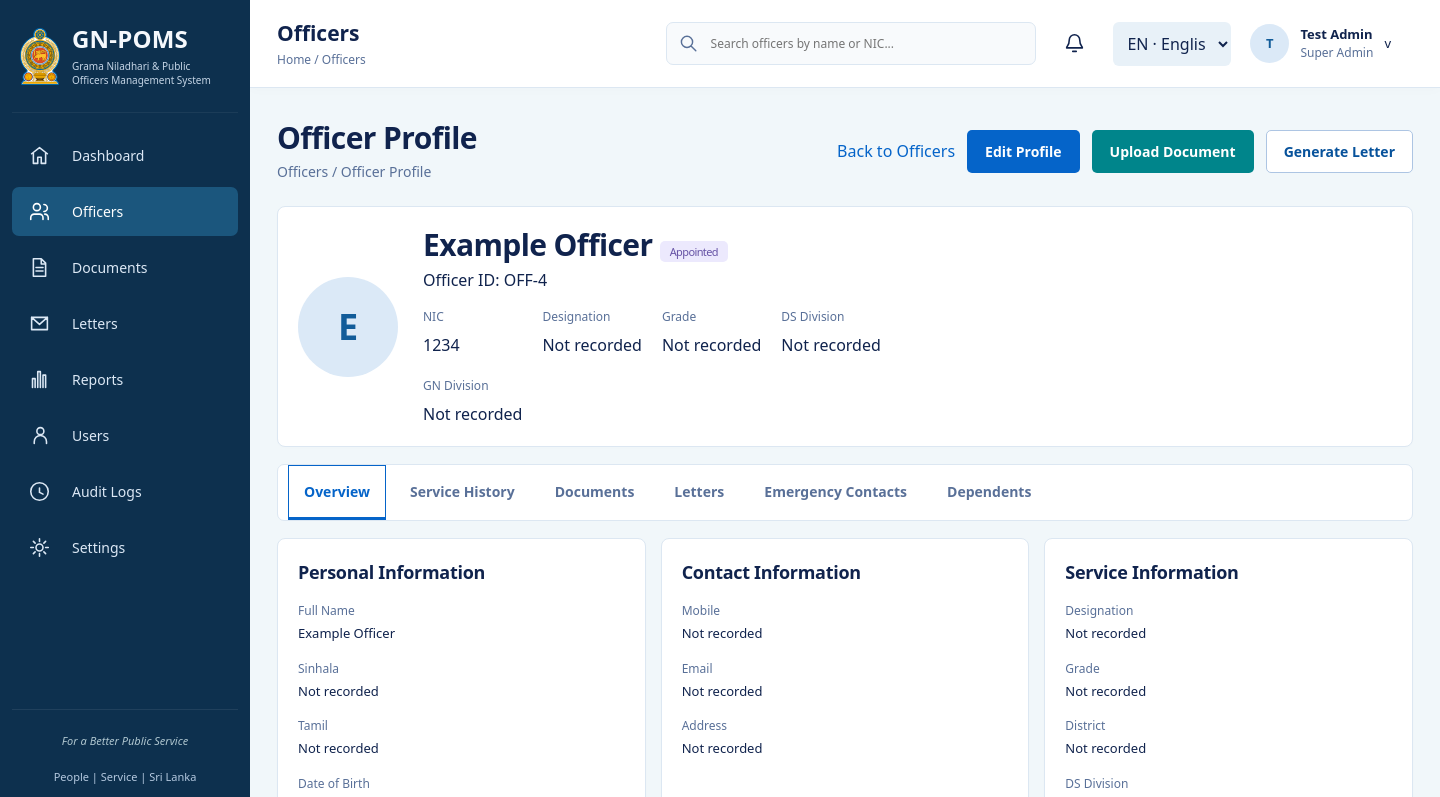
React application workflows › shows persisted profile history and dependent records in separate tabs
The width and height of the screenshot is (1440, 797).
Expected: the heading "Example Officer Appointed" is shown, [423,224,728,265]
Click the tab "Service History" at {"x": 462, "y": 492}, box [394,465,531,520]
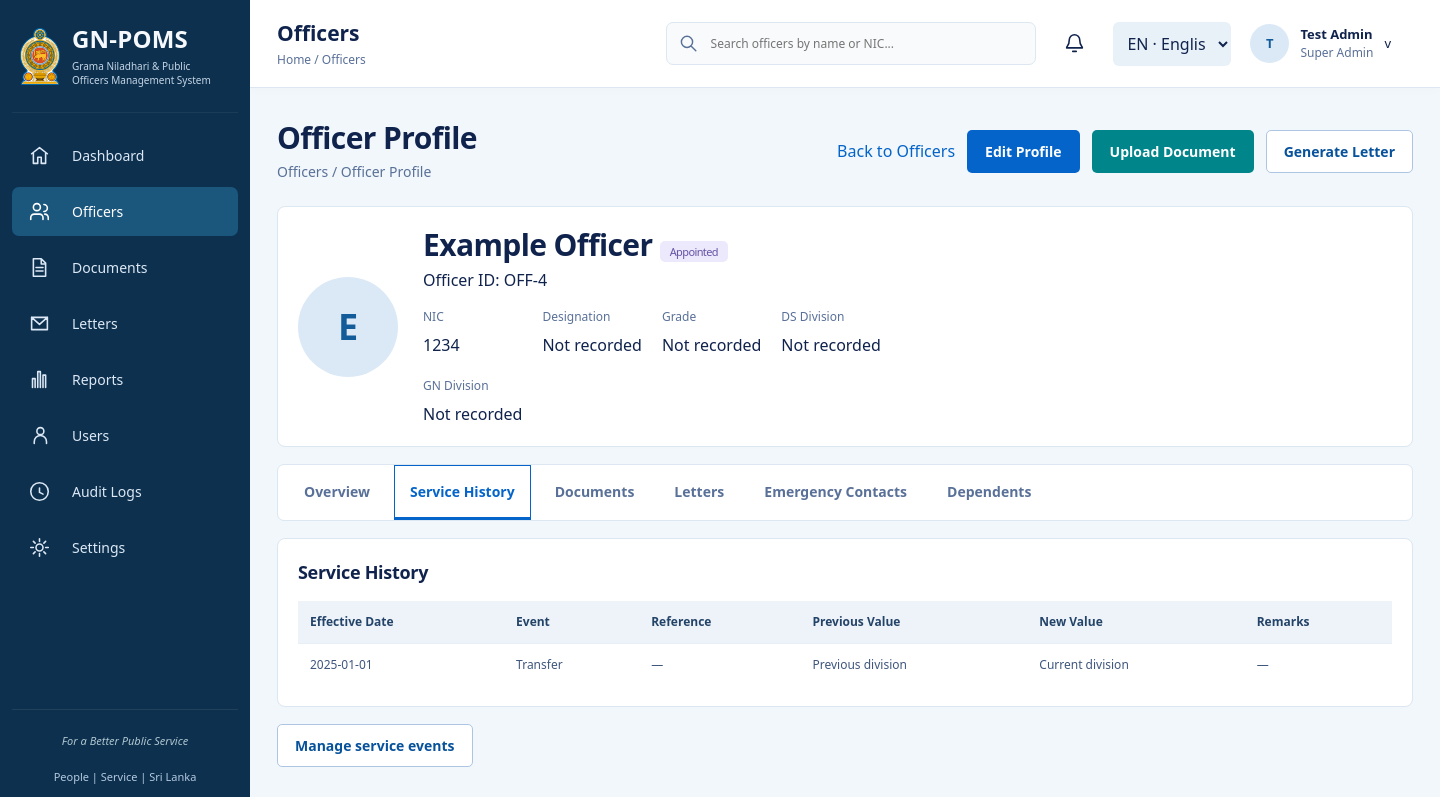
Expected: the text "Previous division" is shown, [800,643,1027,686]
Expected: the text "Current division" is shown, [1027,643,1245,686]
Click the tab "Dependents" at {"x": 989, "y": 492}, box [931,465,1047,520]
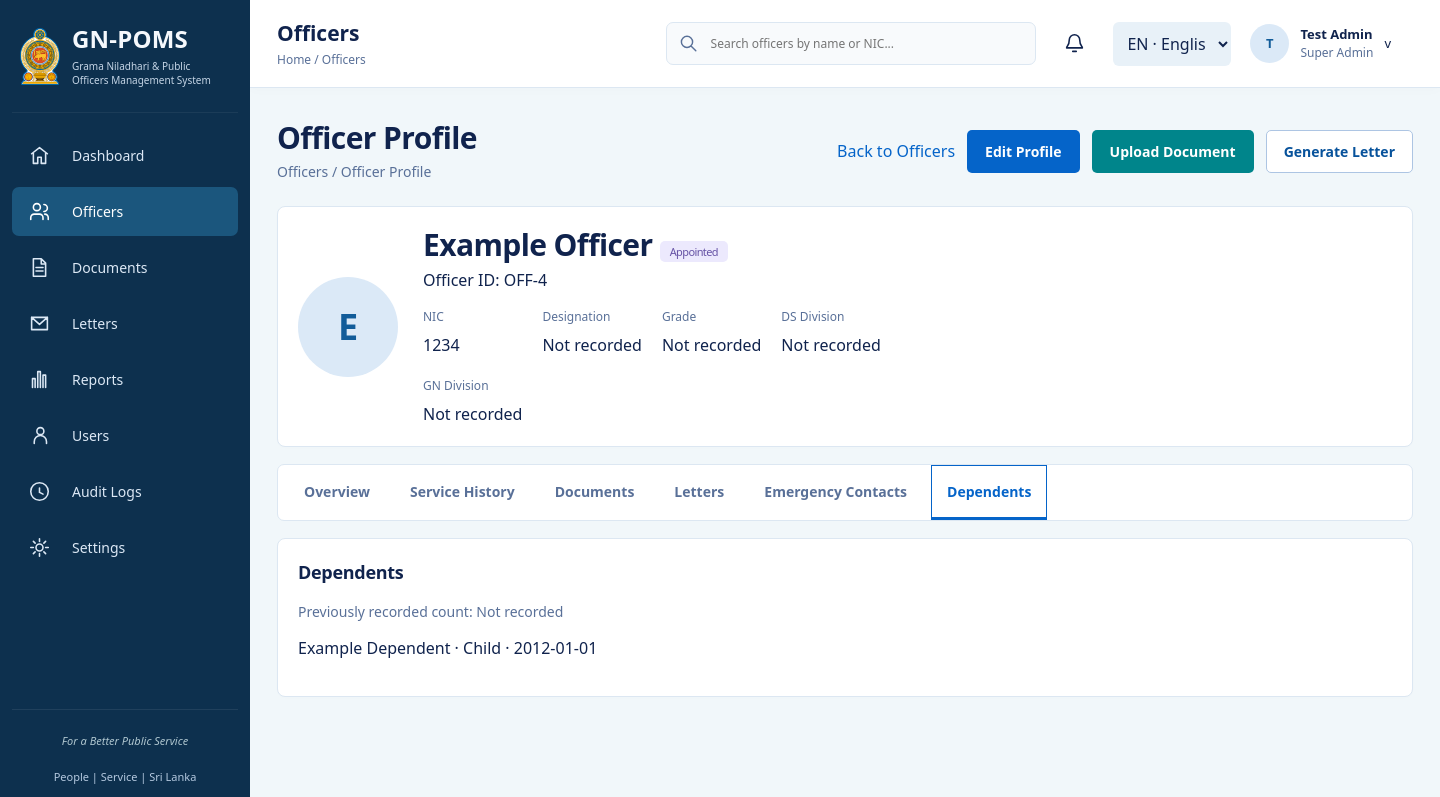
Result: the text "Example Dependent · Child · 2012-01-01" is shown at [298,637,597,659]
